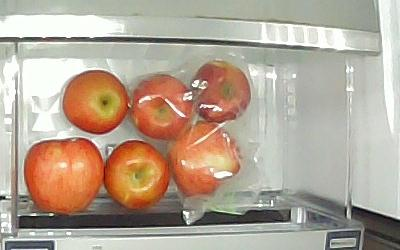apple: (22, 136, 104, 215), (103, 140, 170, 211), (63, 70, 128, 134)
apple_vinyl: (170, 123, 242, 200), (132, 75, 192, 142), (192, 58, 253, 121)
